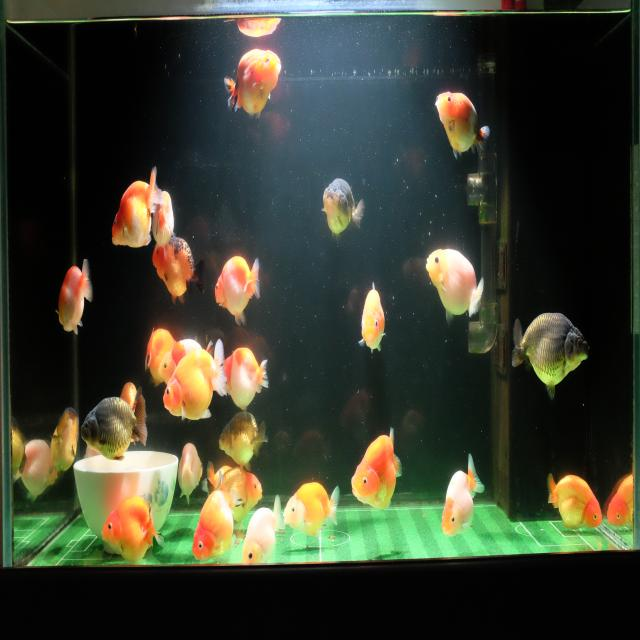Goldfish: (508, 306, 592, 401), (80, 383, 150, 464), (162, 338, 228, 422), (425, 246, 484, 327), (110, 165, 165, 251), (350, 426, 403, 514), (224, 46, 282, 126), (102, 493, 163, 566), (434, 89, 490, 166), (192, 473, 237, 563), (152, 233, 204, 308), (545, 469, 602, 535), (441, 452, 485, 536), (213, 252, 261, 328), (282, 479, 340, 541), (53, 256, 94, 337), (240, 494, 286, 564), (208, 467, 263, 523), (223, 344, 268, 412), (15, 435, 60, 501), (320, 173, 364, 240), (219, 412, 268, 472), (354, 278, 388, 356), (48, 404, 78, 479), (174, 436, 205, 508), (606, 473, 634, 533), (151, 187, 175, 246)
